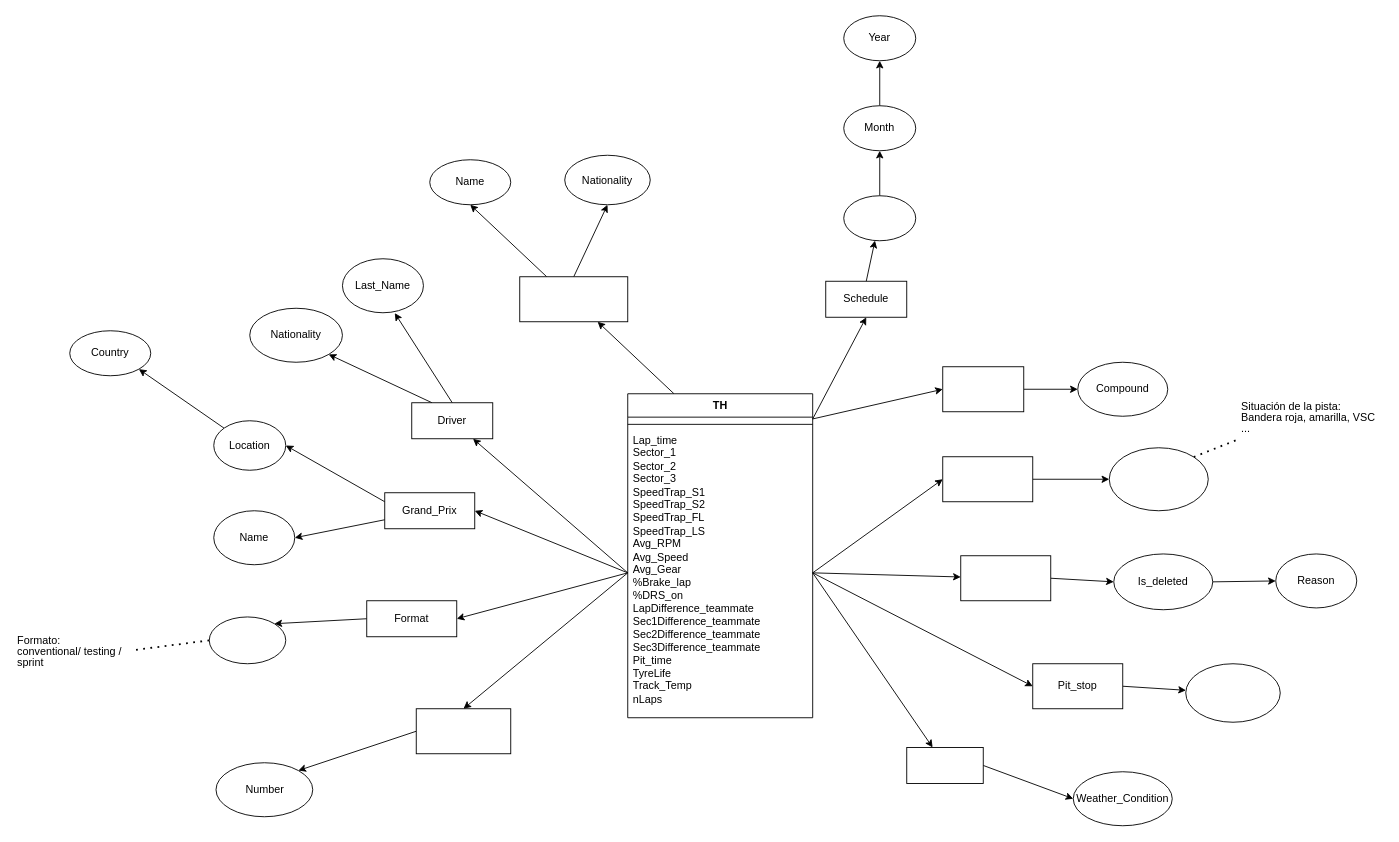
Image size: 1399x842. Some labels were removed from this diagram. Each missing label, with the centre of its shape:
Day: point 879,218
GP_Format: point 247,640
Lap_deleted: point 1005,578
Lap_Number: point 463,731
Lap_stop?: point 1232,692
Status: point 1158,479
Team: point 573,299
Track_status: point 987,479
Tyre: point 983,389
Weather: point 944,765
